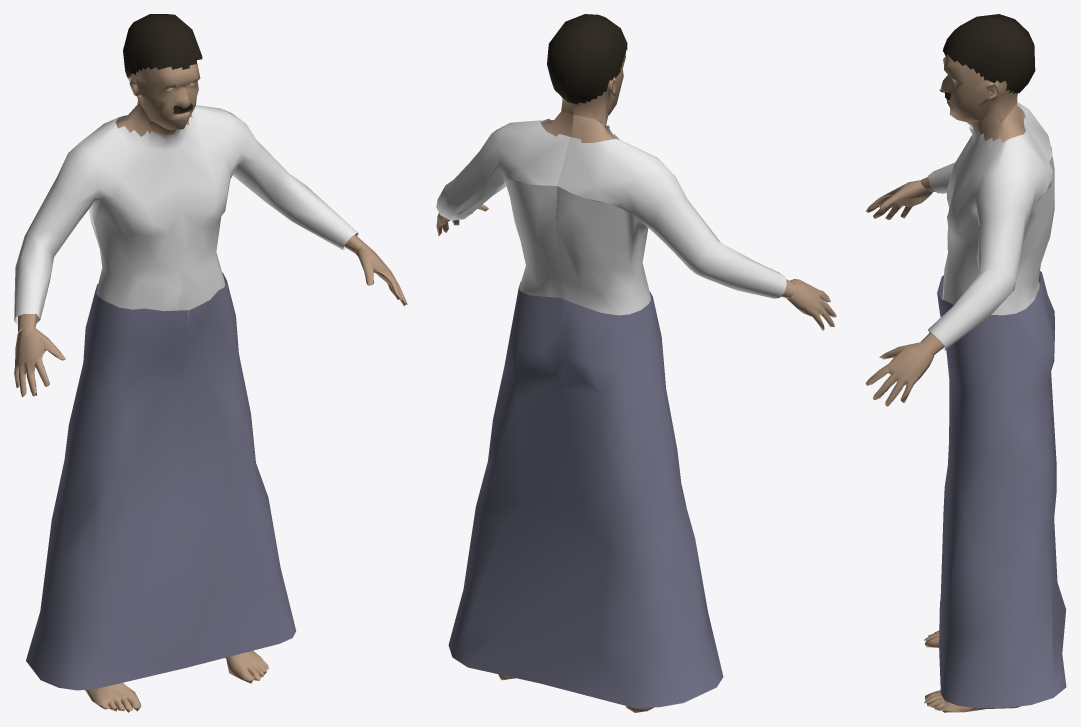
File: man_07.glb
3 views of the same model, side by side, from view 1: azimuth 30°, elevation 25°; view 2: azimuth 150°, elevation 25°; view 3: azimuth 270°, elevation 25° (orthographic).
Visible parts, largest first — view 1: crowd; view 2: crowd; view 3: crowd.
Part boxes in pixels (x1=…): crowd: x1=14, y1=14, x2=407, y2=712; crowd: x1=436, y1=14, x2=836, y2=712; crowd: x1=865, y1=14, x2=1066, y2=712.
Bounding box in the file's own units: 1.08 × 1.76 × 0.4879.
